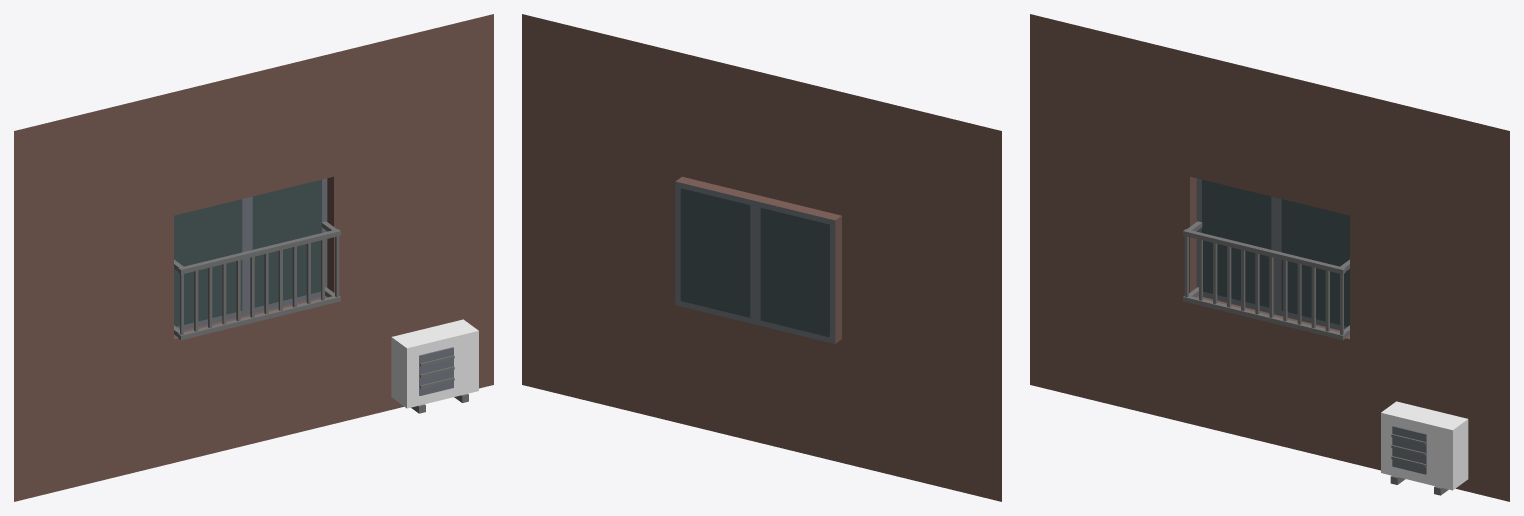
Rendered from mid-w4_close.fbx.
3 renders of one model, left to right at view 1: azimuth 30°, elevation 25°; view 2: azimuth 150°, elevation 25°; view 3: azimuth 330°, elevation 25°, orthographic.
Parts seen in each view (by area): view 1: a2009.wall.010; view 2: a2009.wall.010; view 3: a2009.wall.010.
Boxes of the visible parts, bbox=[...] form: a2009.wall.010: bbox=[14, 14, 493, 501]; a2009.wall.010: bbox=[522, 14, 1001, 501]; a2009.wall.010: bbox=[1030, 14, 1509, 501].
Size of the model in its own units: 5 by 3.69 by 0.5295.
